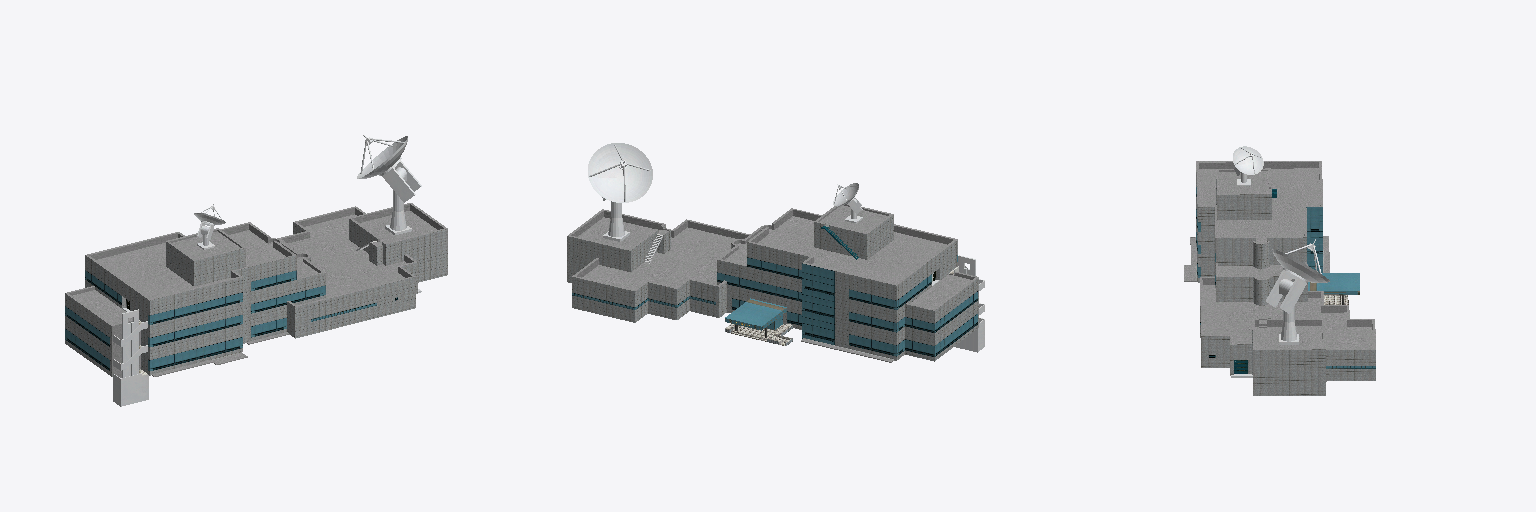
The picture shows the model from 3 angles: view 1: azimuth 30°, elevation 25°; view 2: azimuth 150°, elevation 25°; view 3: azimuth 270°, elevation 25°; orthographic projection.
Visible parts, largest first — view 1: Material__3, Material__2, Material__11, Material__4, Material__5; view 2: Material__3, Material__2, Material__4, Material__11, Material__7, Material__15, Material__18; view 3: Material__2, Material__3, Material__11, Material__15, Material__7.
Boxes of the visible parts, <box> form: Material__3: <box>65,219,447,376</box>; Material__2: <box>66,203,447,377</box>; Material__11: <box>113,135,421,406</box>; Material__4: <box>67,272,319,370</box>; Material__5: <box>65,270,325,370</box>; Material__3: <box>567,215,978,361</box>; Material__2: <box>568,204,978,362</box>; Material__4: <box>717,257,977,356</box>; Material__11: <box>588,143,984,352</box>; Material__7: <box>802,263,834,344</box>; Material__15: <box>725,298,786,330</box>; Material__18: <box>725,267,956,345</box>; Material__2: <box>1184,161,1375,349</box>; Material__3: <box>1195,172,1375,395</box>; Material__11: <box>1231,146,1329,377</box>; Material__15: <box>1308,273,1359,294</box>; Material__7: <box>1306,207,1322,266</box>.
Bounding box in the file's own units: 88.97 × 37.04 × 41.43.
Materials: 20 (16 with a texture image).